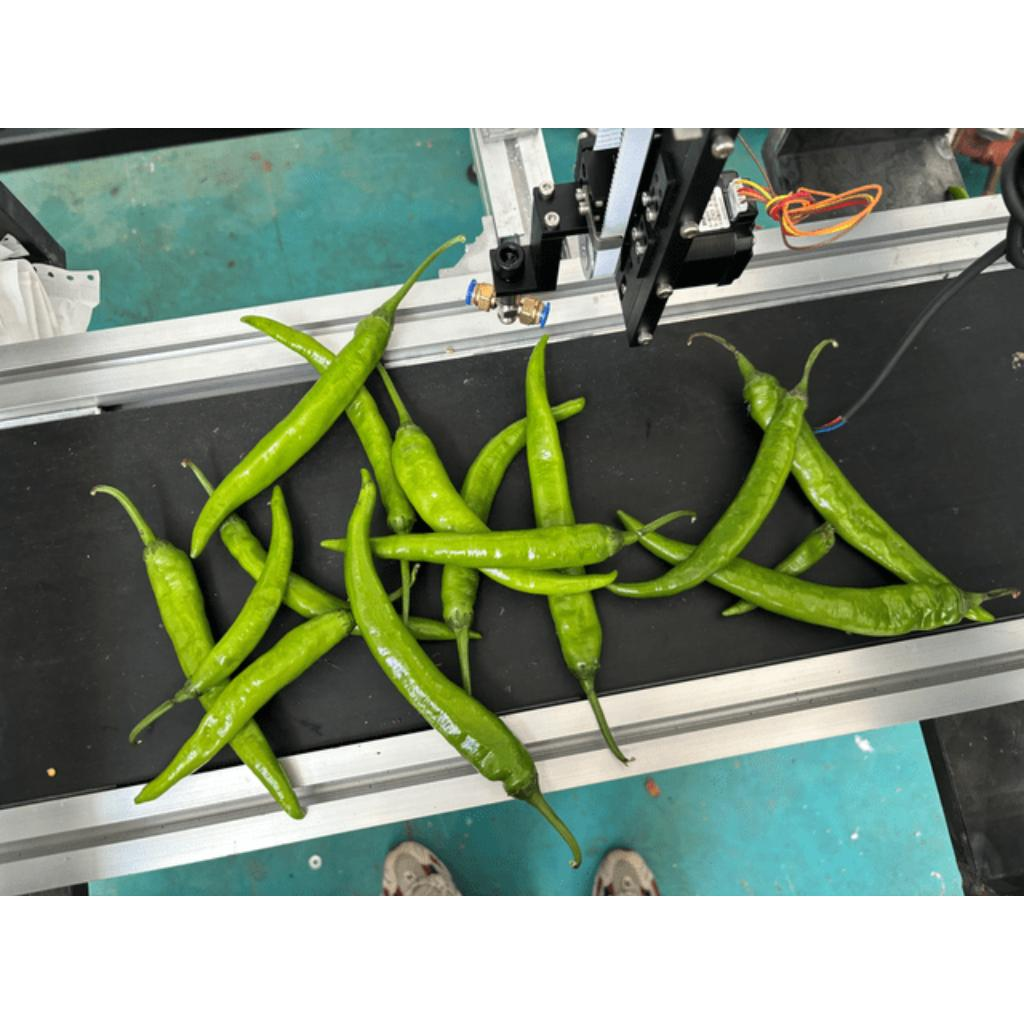chili: (343, 459, 538, 807), (739, 367, 999, 622), (188, 306, 397, 566), (614, 504, 971, 639), (142, 533, 307, 820), (603, 385, 813, 602), (130, 608, 355, 807), (388, 421, 624, 596), (235, 312, 413, 533), (438, 391, 589, 633), (215, 510, 491, 640), (523, 324, 603, 684), (181, 480, 294, 699), (313, 522, 628, 571), (715, 521, 839, 618)
